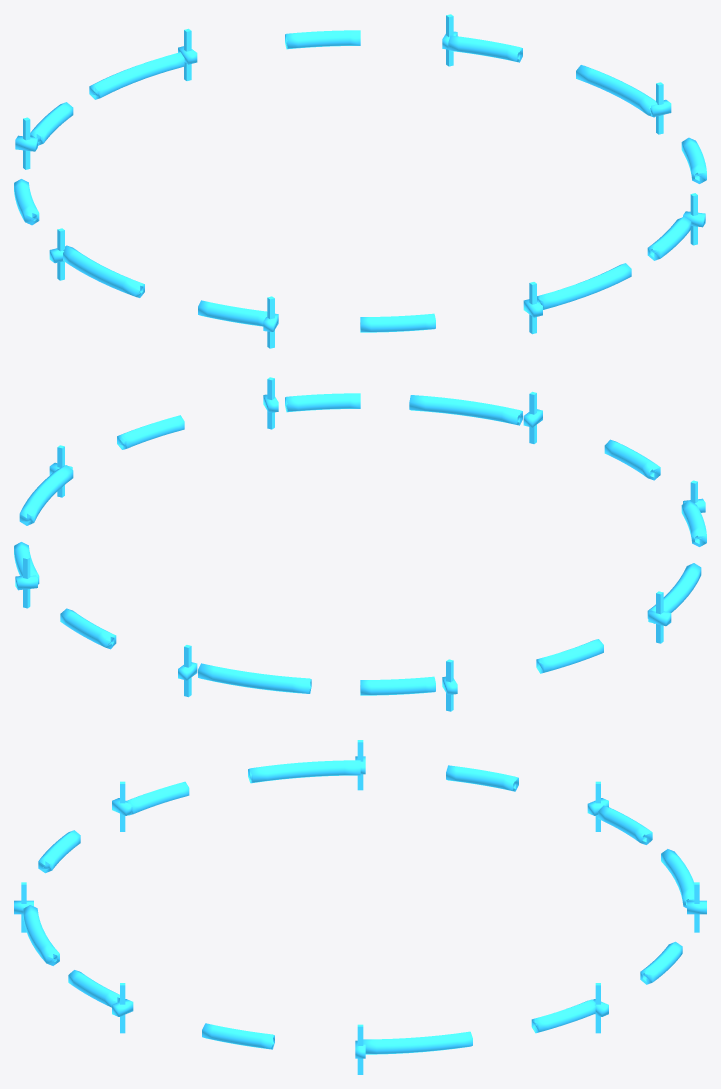
File: jarvis_hud_ring.glb
3 renders of one model, top to bottom at view 1: azimuth 30°, elevation 25°; view 2: azimuth 150°, elevation 25°; view 3: azimuth 270°, elevation 25°, orthographic. The views are drawn at different scales.
Parts seen in each view (by area): view 1: JCC_HudRing; view 2: JCC_HudRing; view 3: JCC_HudRing.
Boxes of the visible parts, x1,y1,x2,y2 form: JCC_HudRing: (14, 14, 706, 348); JCC_HudRing: (14, 377, 706, 711); JCC_HudRing: (14, 740, 706, 1074).
Bounding box in the file's own units: 28.12 × 2.15 × 28.12.
